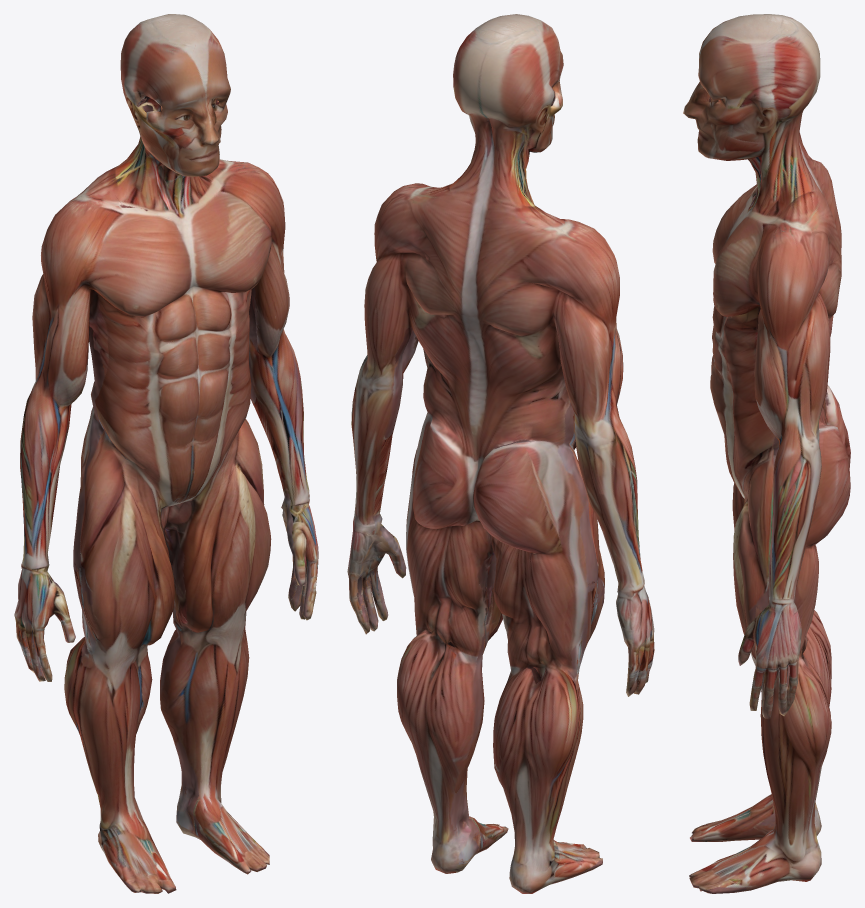
The model's file is HumanAnatomy.glb.
3 renders of one model, left to right at view 1: azimuth 30°, elevation 25°; view 2: azimuth 150°, elevation 25°; view 3: azimuth 270°, elevation 25°, orthographic.
Bounding box in the file's own units: 0.7282 × 2 × 0.3619.
Materials: 1 (1 with a texture image).
